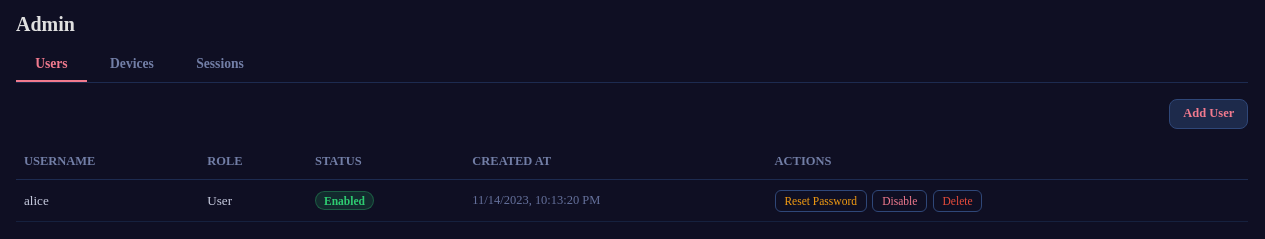
AdminPage › toggle user status › shows error when toggle fails
Expected: the text "alice" is shown, [16, 180, 199, 222]
Click the button "Disable". click: (900,201)
box: [872, 190, 927, 212]
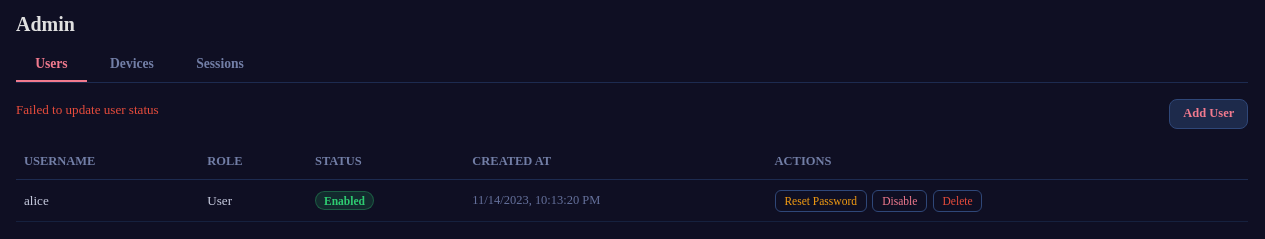
Result: the text "Failed to update user status" is shown at [16, 102, 159, 118]
